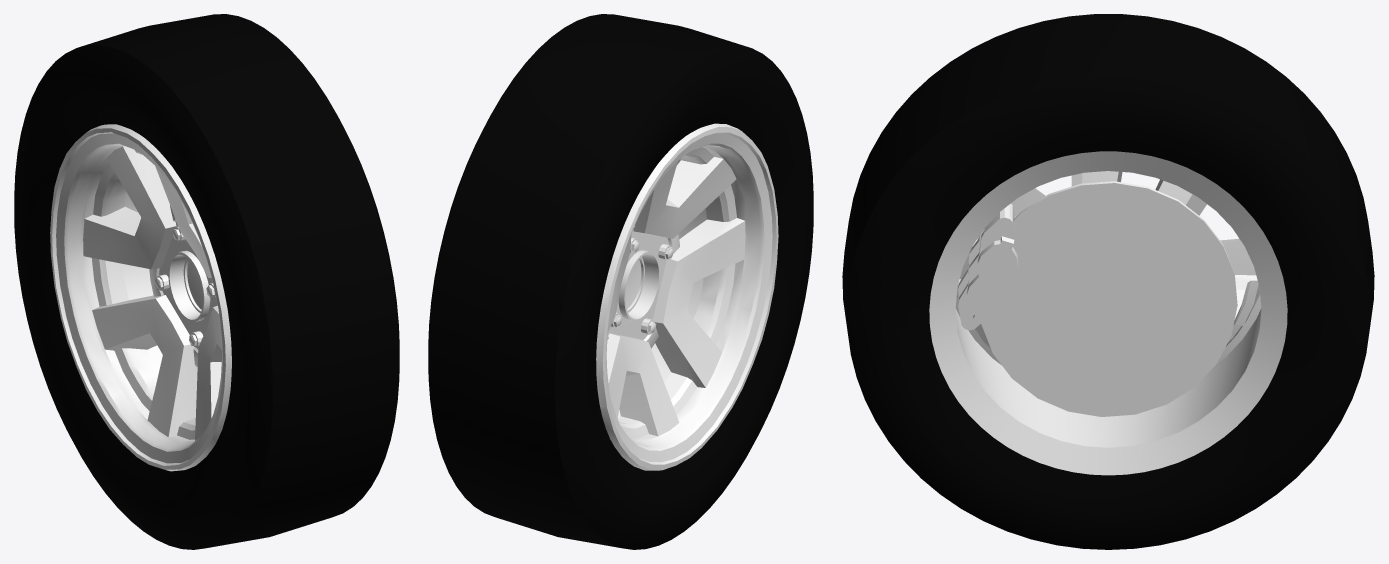
The model's file is cartypewheel1modelhigh.obj.
3 views of the same model, side by side, from view 1: azimuth 30°, elevation 25°; view 2: azimuth 150°, elevation 25°; view 3: azimuth 270°, elevation 25° (orthographic).
Visible parts, largest first — view 1: Wheel_AE85.002; view 2: Wheel_AE85.002; view 3: Wheel_AE85.002.
Part boxes in pixels (<box>): Wheel_AE85.002: <box>14,14,399,549</box>; Wheel_AE85.002: <box>428,14,813,549</box>; Wheel_AE85.002: <box>842,14,1374,549</box>.
Bounding box in the file's own units: 0.1822 × 0.561 × 0.562.
